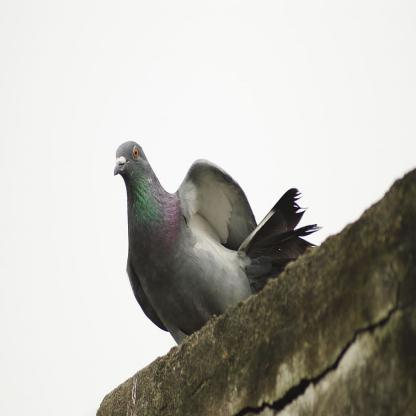Flying Rat: (110, 134, 276, 344)
